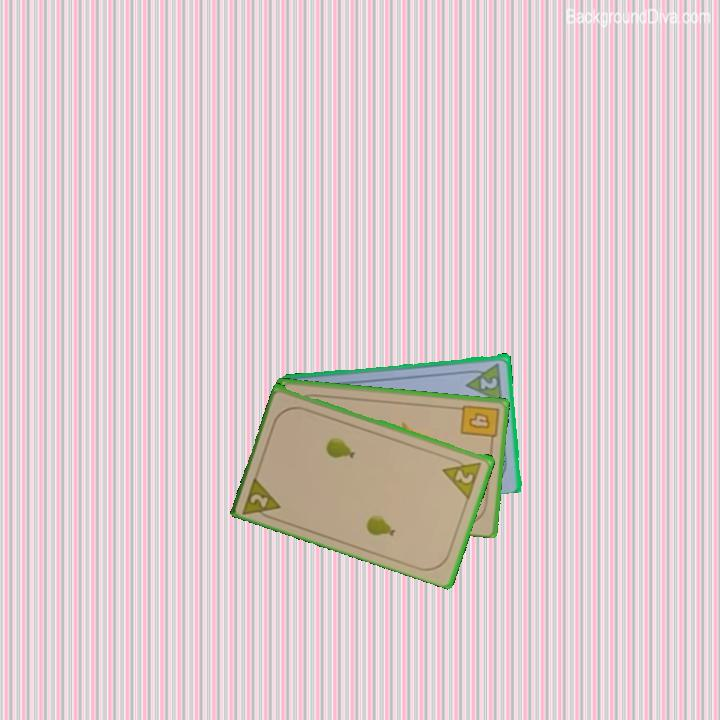2p: (239, 471, 284, 523), (439, 454, 485, 500), (462, 359, 505, 403)
4b: (457, 401, 501, 446)
